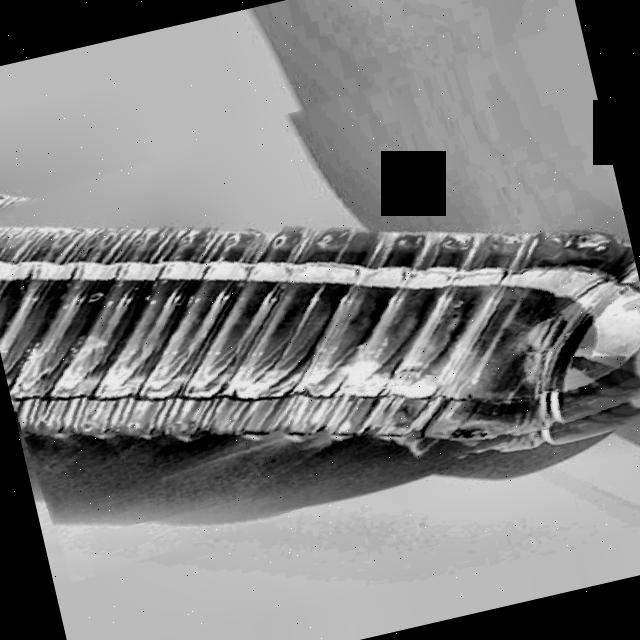bottle: (0, 226, 640, 439)
